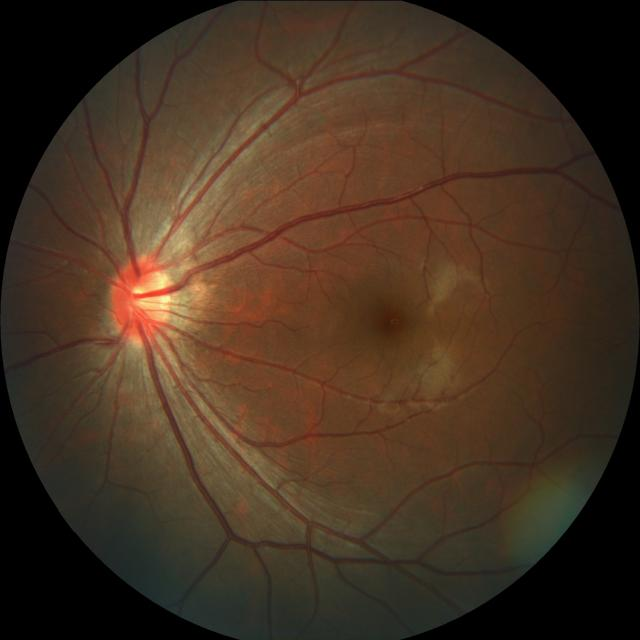OC: (125, 279, 158, 313)
OD: (110, 256, 177, 342)
